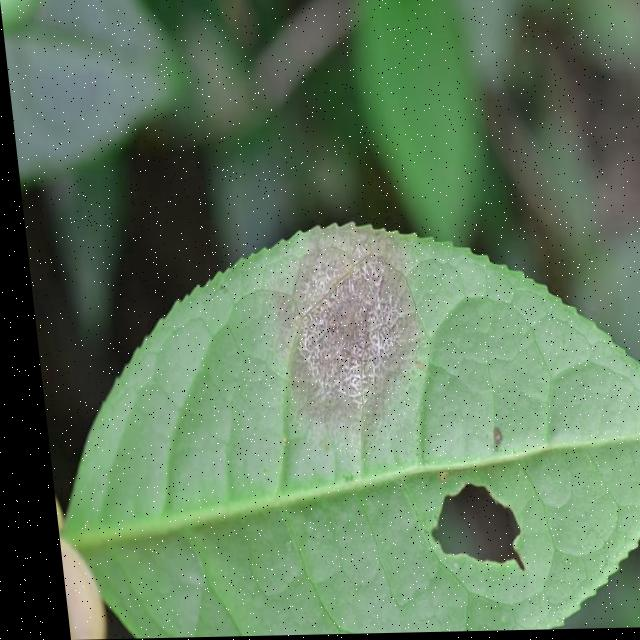Tea exobasidium blight: (276, 223, 417, 419)
